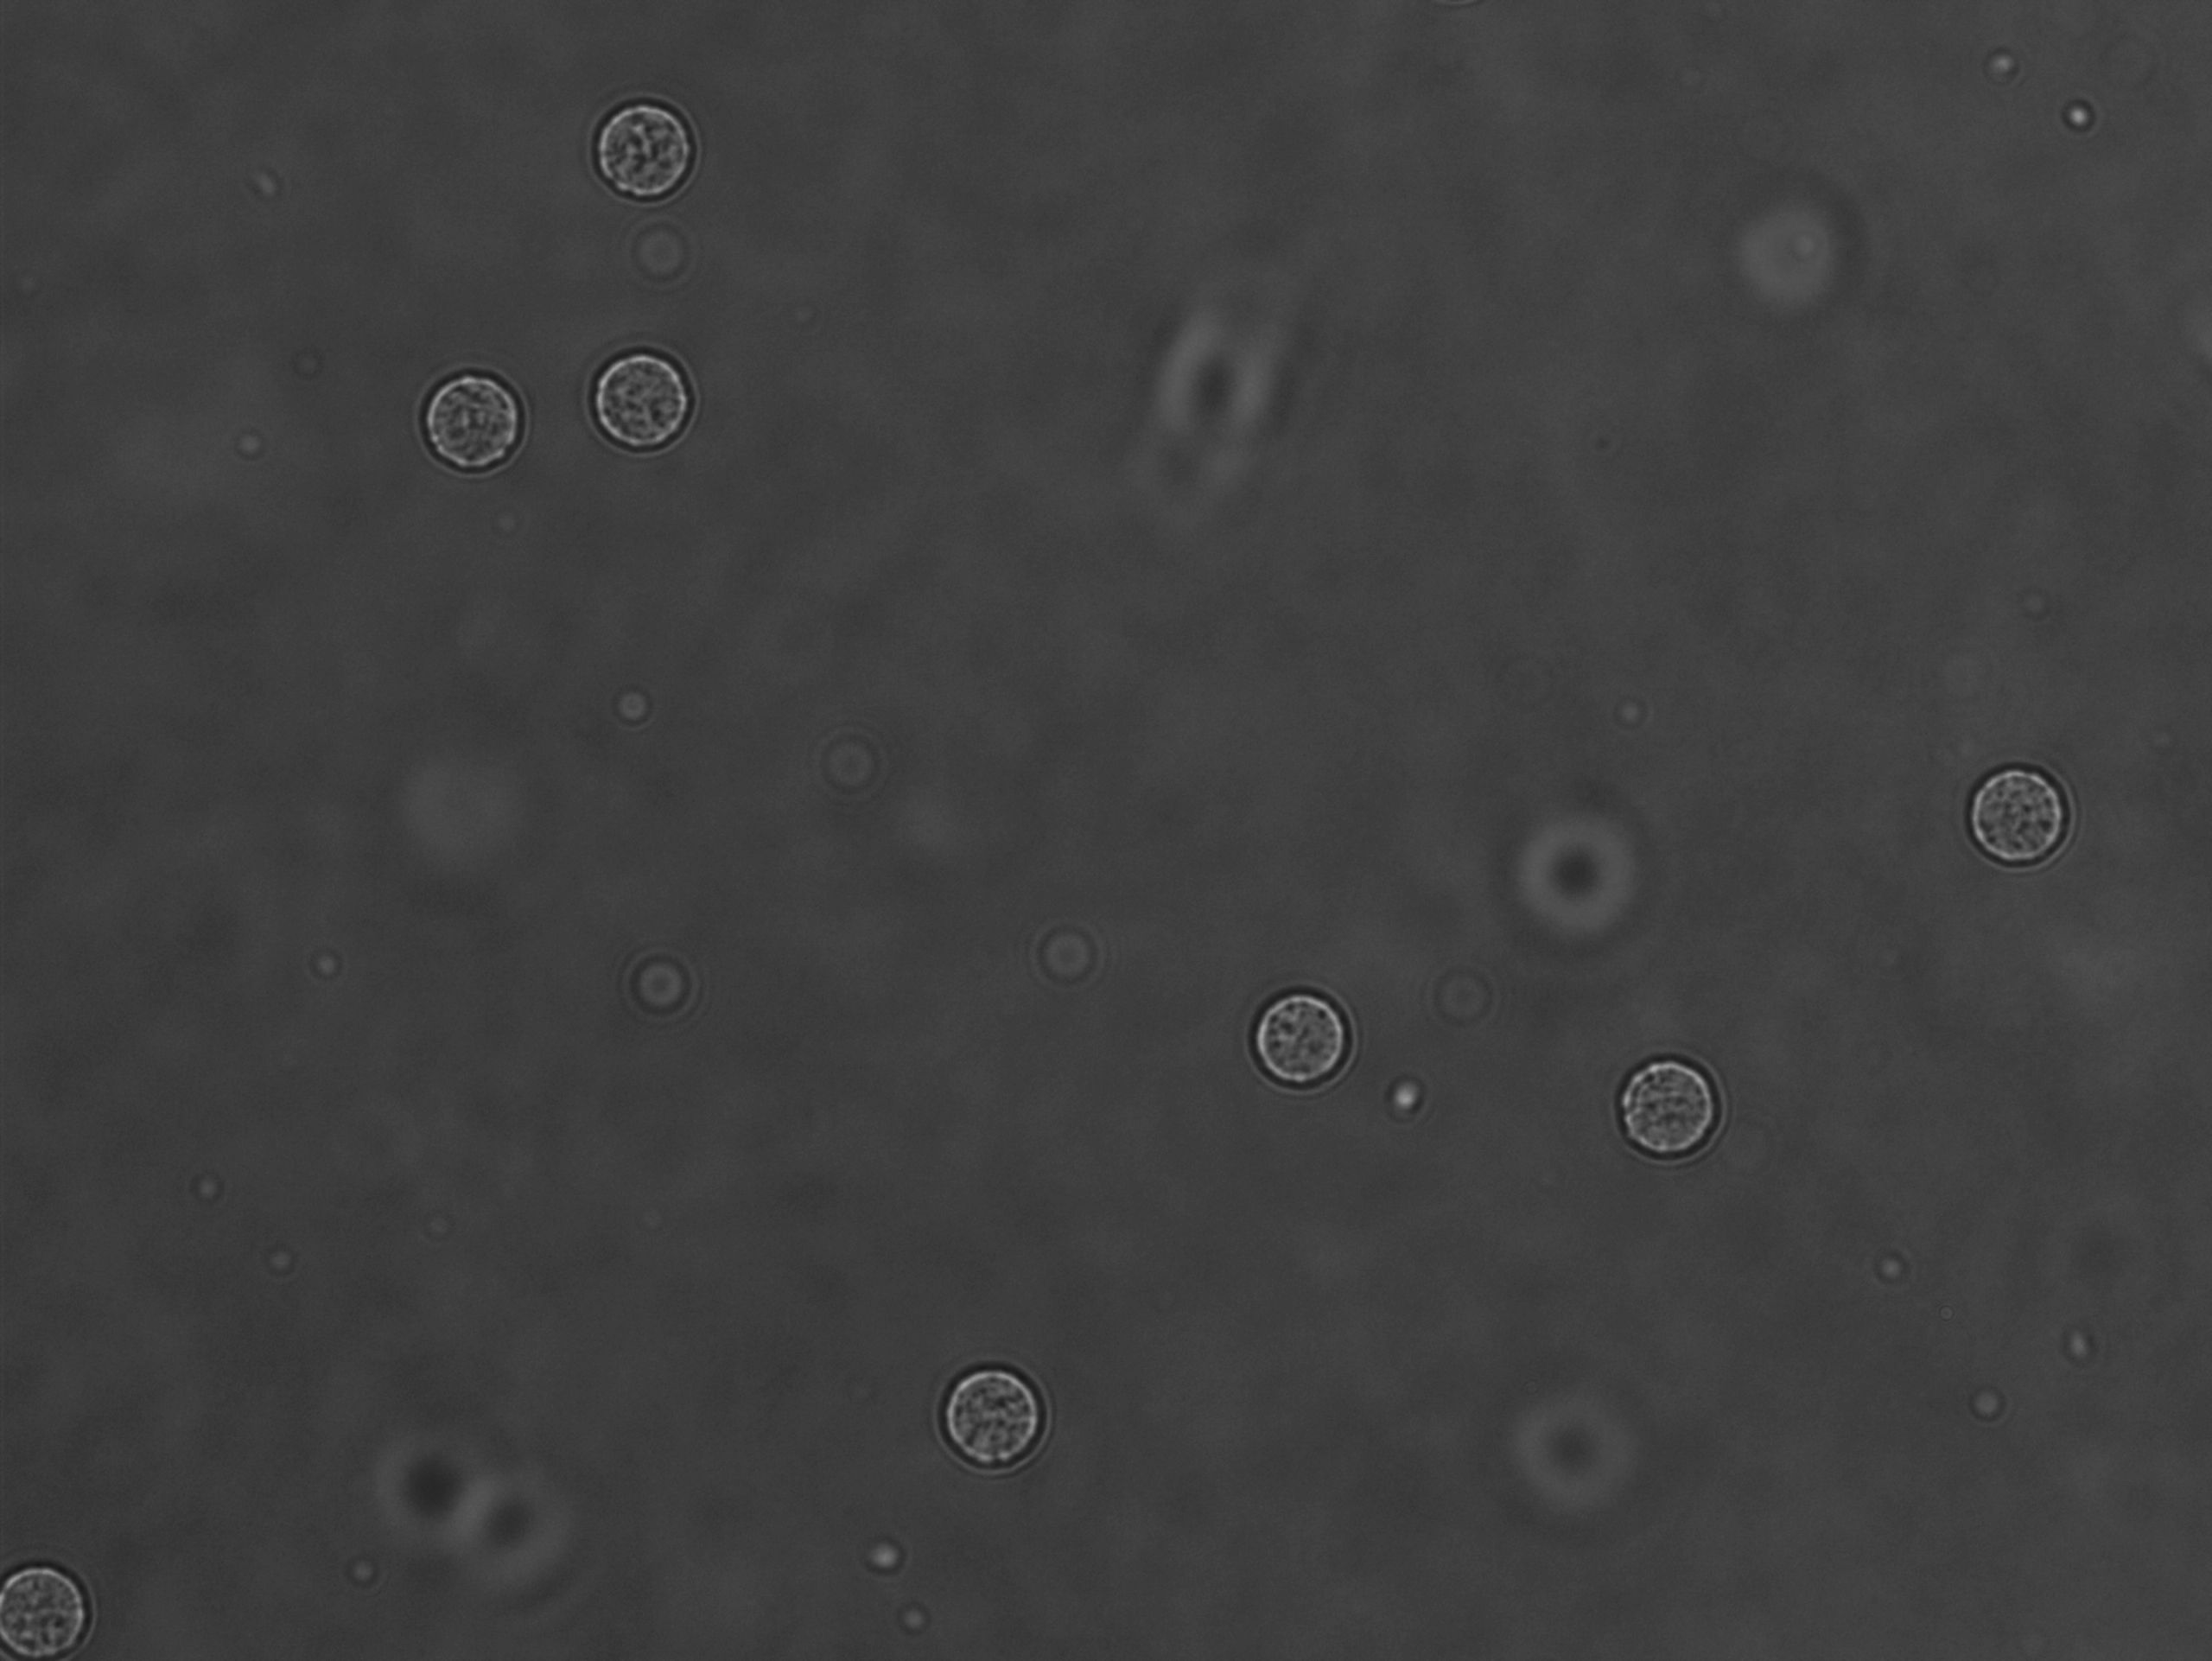depth:0: (1947, 733, 2106, 907), (907, 1333, 1089, 1485), (1235, 953, 1408, 1111), (1591, 1036, 1748, 1185), (394, 340, 544, 492), (577, 87, 720, 218), (579, 335, 717, 468)
